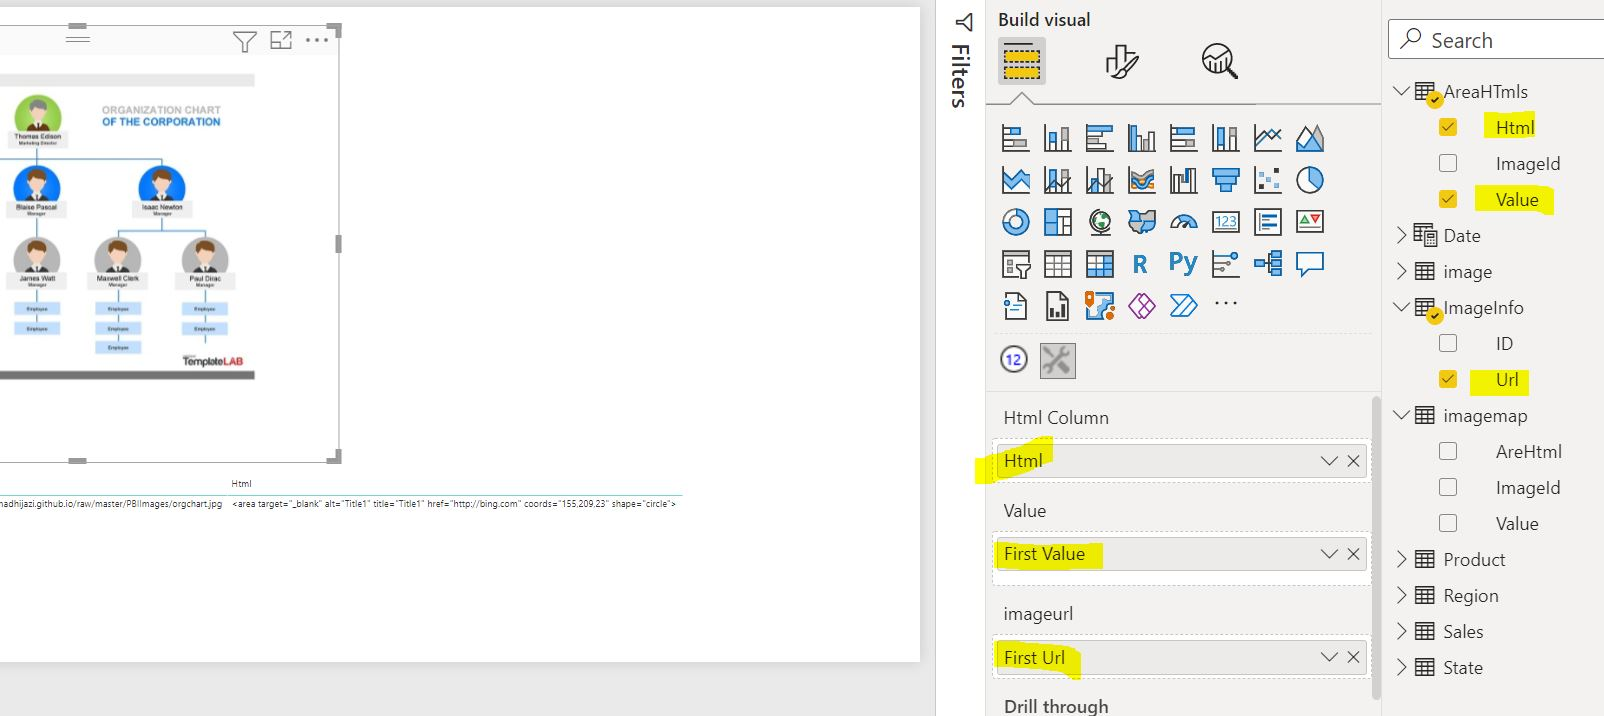

The page's visual inventory and layout, read from the dashboard file:
{"tool":"powerbi","page":{"name":"Sample2","canvas":[1280,720],"ordinal":1},"visuals":[{"type":"imagemap4AD8D1E1DA0943AEB18E1E59B92001A9","fields":{"imageurl":["Min(imageInfo.Url)"],"htmlcolumn":["AreaHTml.Html"],"value":["Min(AreaHTml.Value)"]},"box":[9.4,20.3,601.8,470.8],"z":0},{"type":"tableEx","fields":{"Values":["imageInfo.Url","AreaHTml.Html"]},"box":[9.4,500.5,1247.3,219.8],"z":1}]}

Visuals, with their boxes on the page's 1280x720 design canvas (x1, y1, x2, y2). These are canvas units, not pixel positions in the 1604x716 screenshot, which may show the page scaled, cropped or inside an application window:
imagemap4AD8D1E1DA0943AEB18E1E59B92001A9 - Min(imageInfo.Url) x AreaHTml.Html: select_region(9, 20, 611, 491)
tableEx - imageInfo.Url x AreaHTml.Html: select_region(9, 500, 1257, 720)
